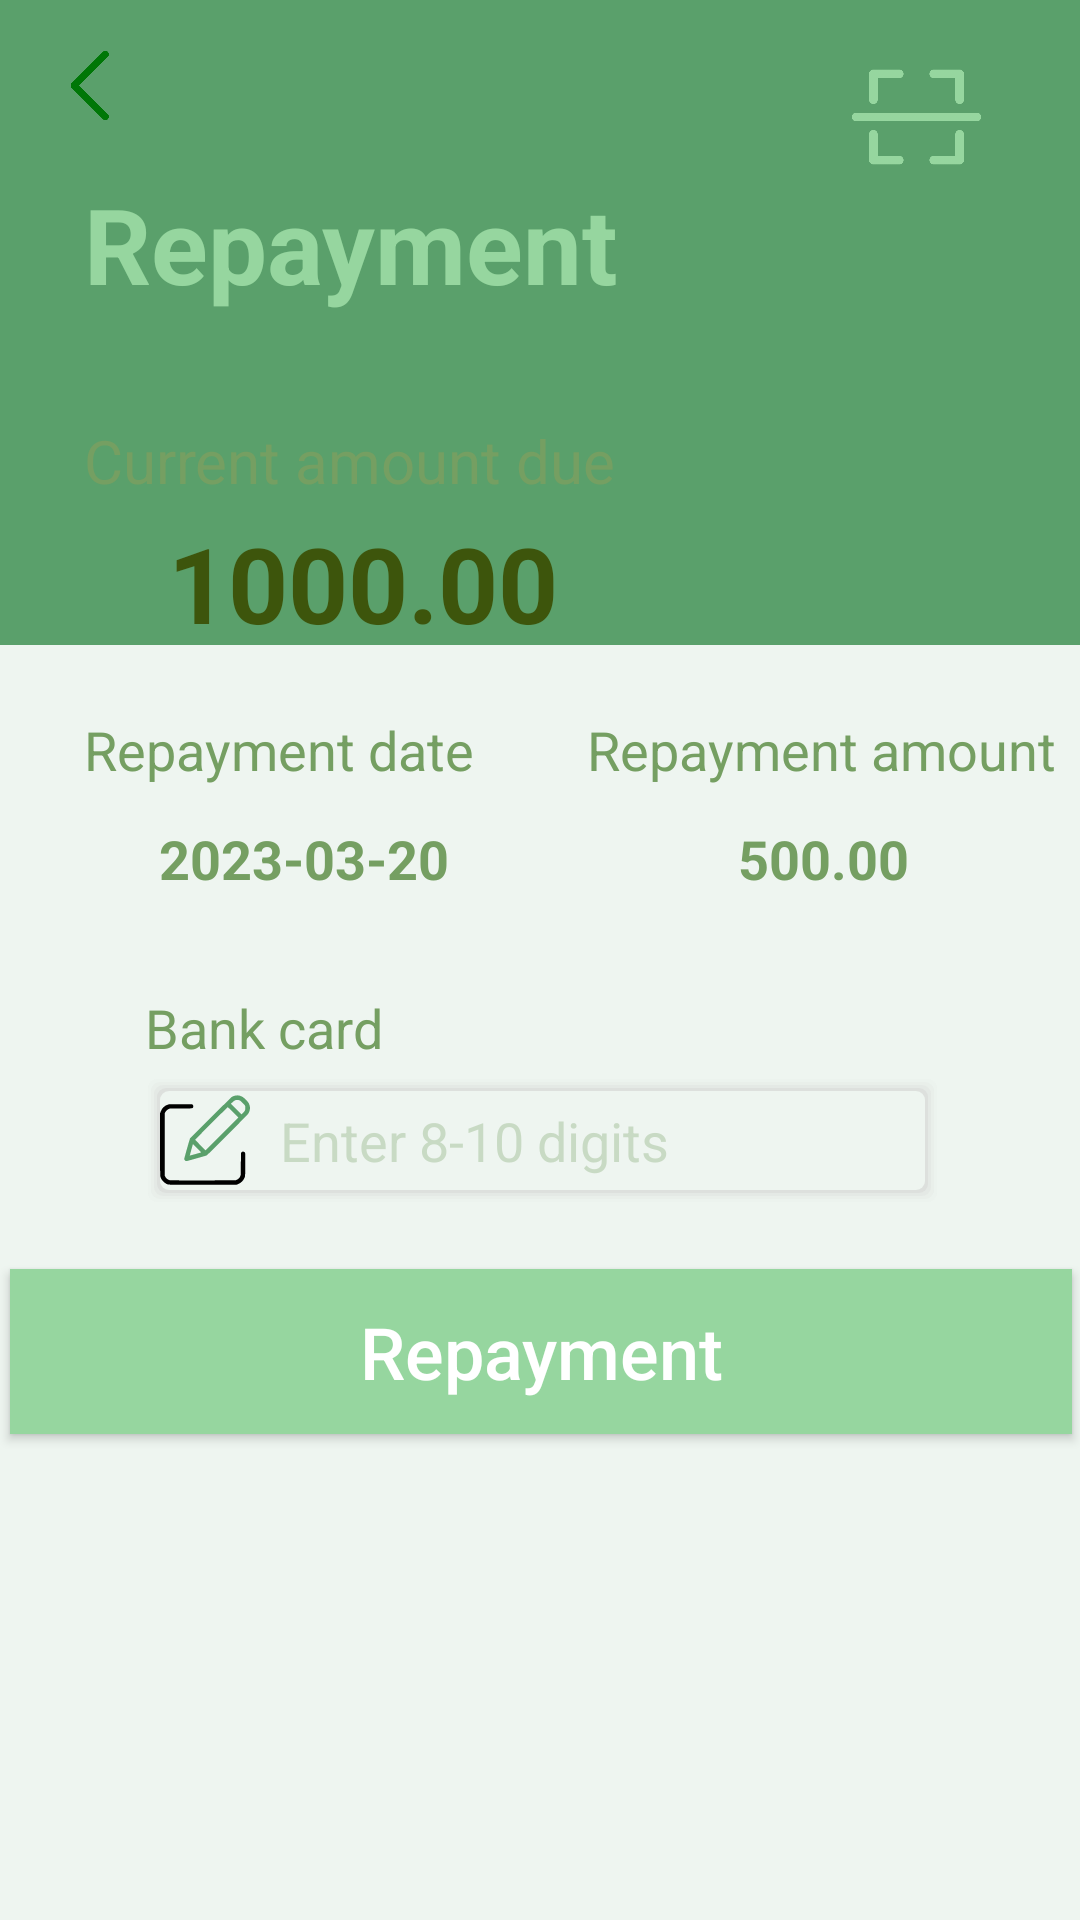

Icons on this 1080px×1920px Android screen, each with the point to tap as [x,y]:
scan: [916,117]
